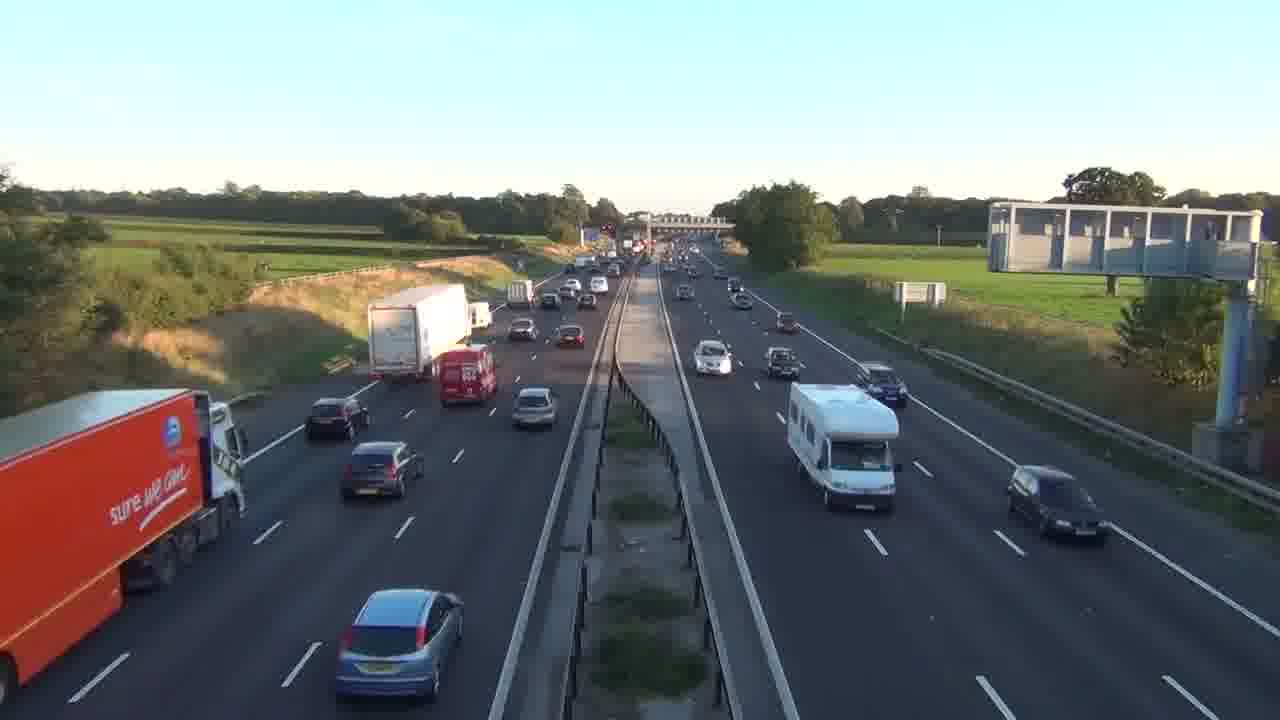bus: (780, 383, 899, 512)
car: (333, 587, 466, 705), (1006, 464, 1107, 542), (339, 439, 423, 500), (853, 362, 908, 409), (305, 397, 360, 440), (511, 385, 557, 430), (692, 338, 732, 376), (764, 345, 806, 381), (556, 324, 585, 348)
truck: (1, 387, 248, 703), (780, 383, 899, 512), (367, 286, 472, 383), (436, 343, 498, 406)
